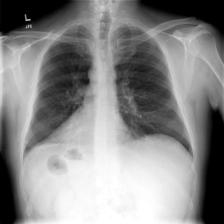normal: (18, 20, 196, 167)
